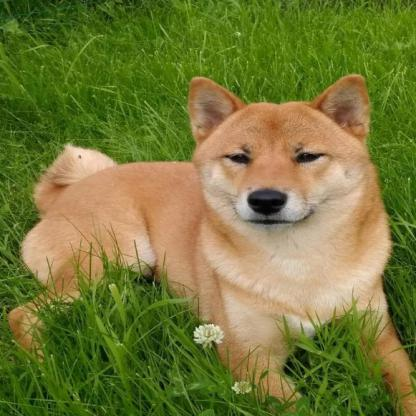Rotveler: (9, 74, 414, 415)
